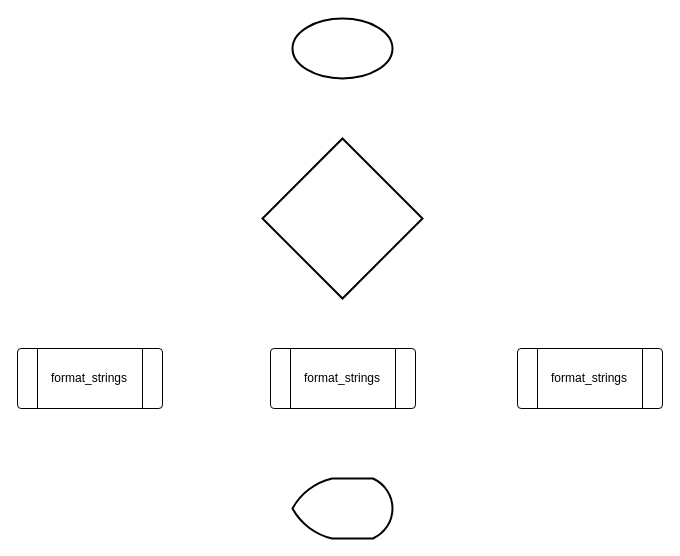
Some shapes in this 680 by 556 pixel diagram are drawn without their labels. Each missing label, with the centre of its shape:
"_name_ == ' _main_ '" belongs at pixel 342 218.
"Start" belongs at pixel 342 48.
